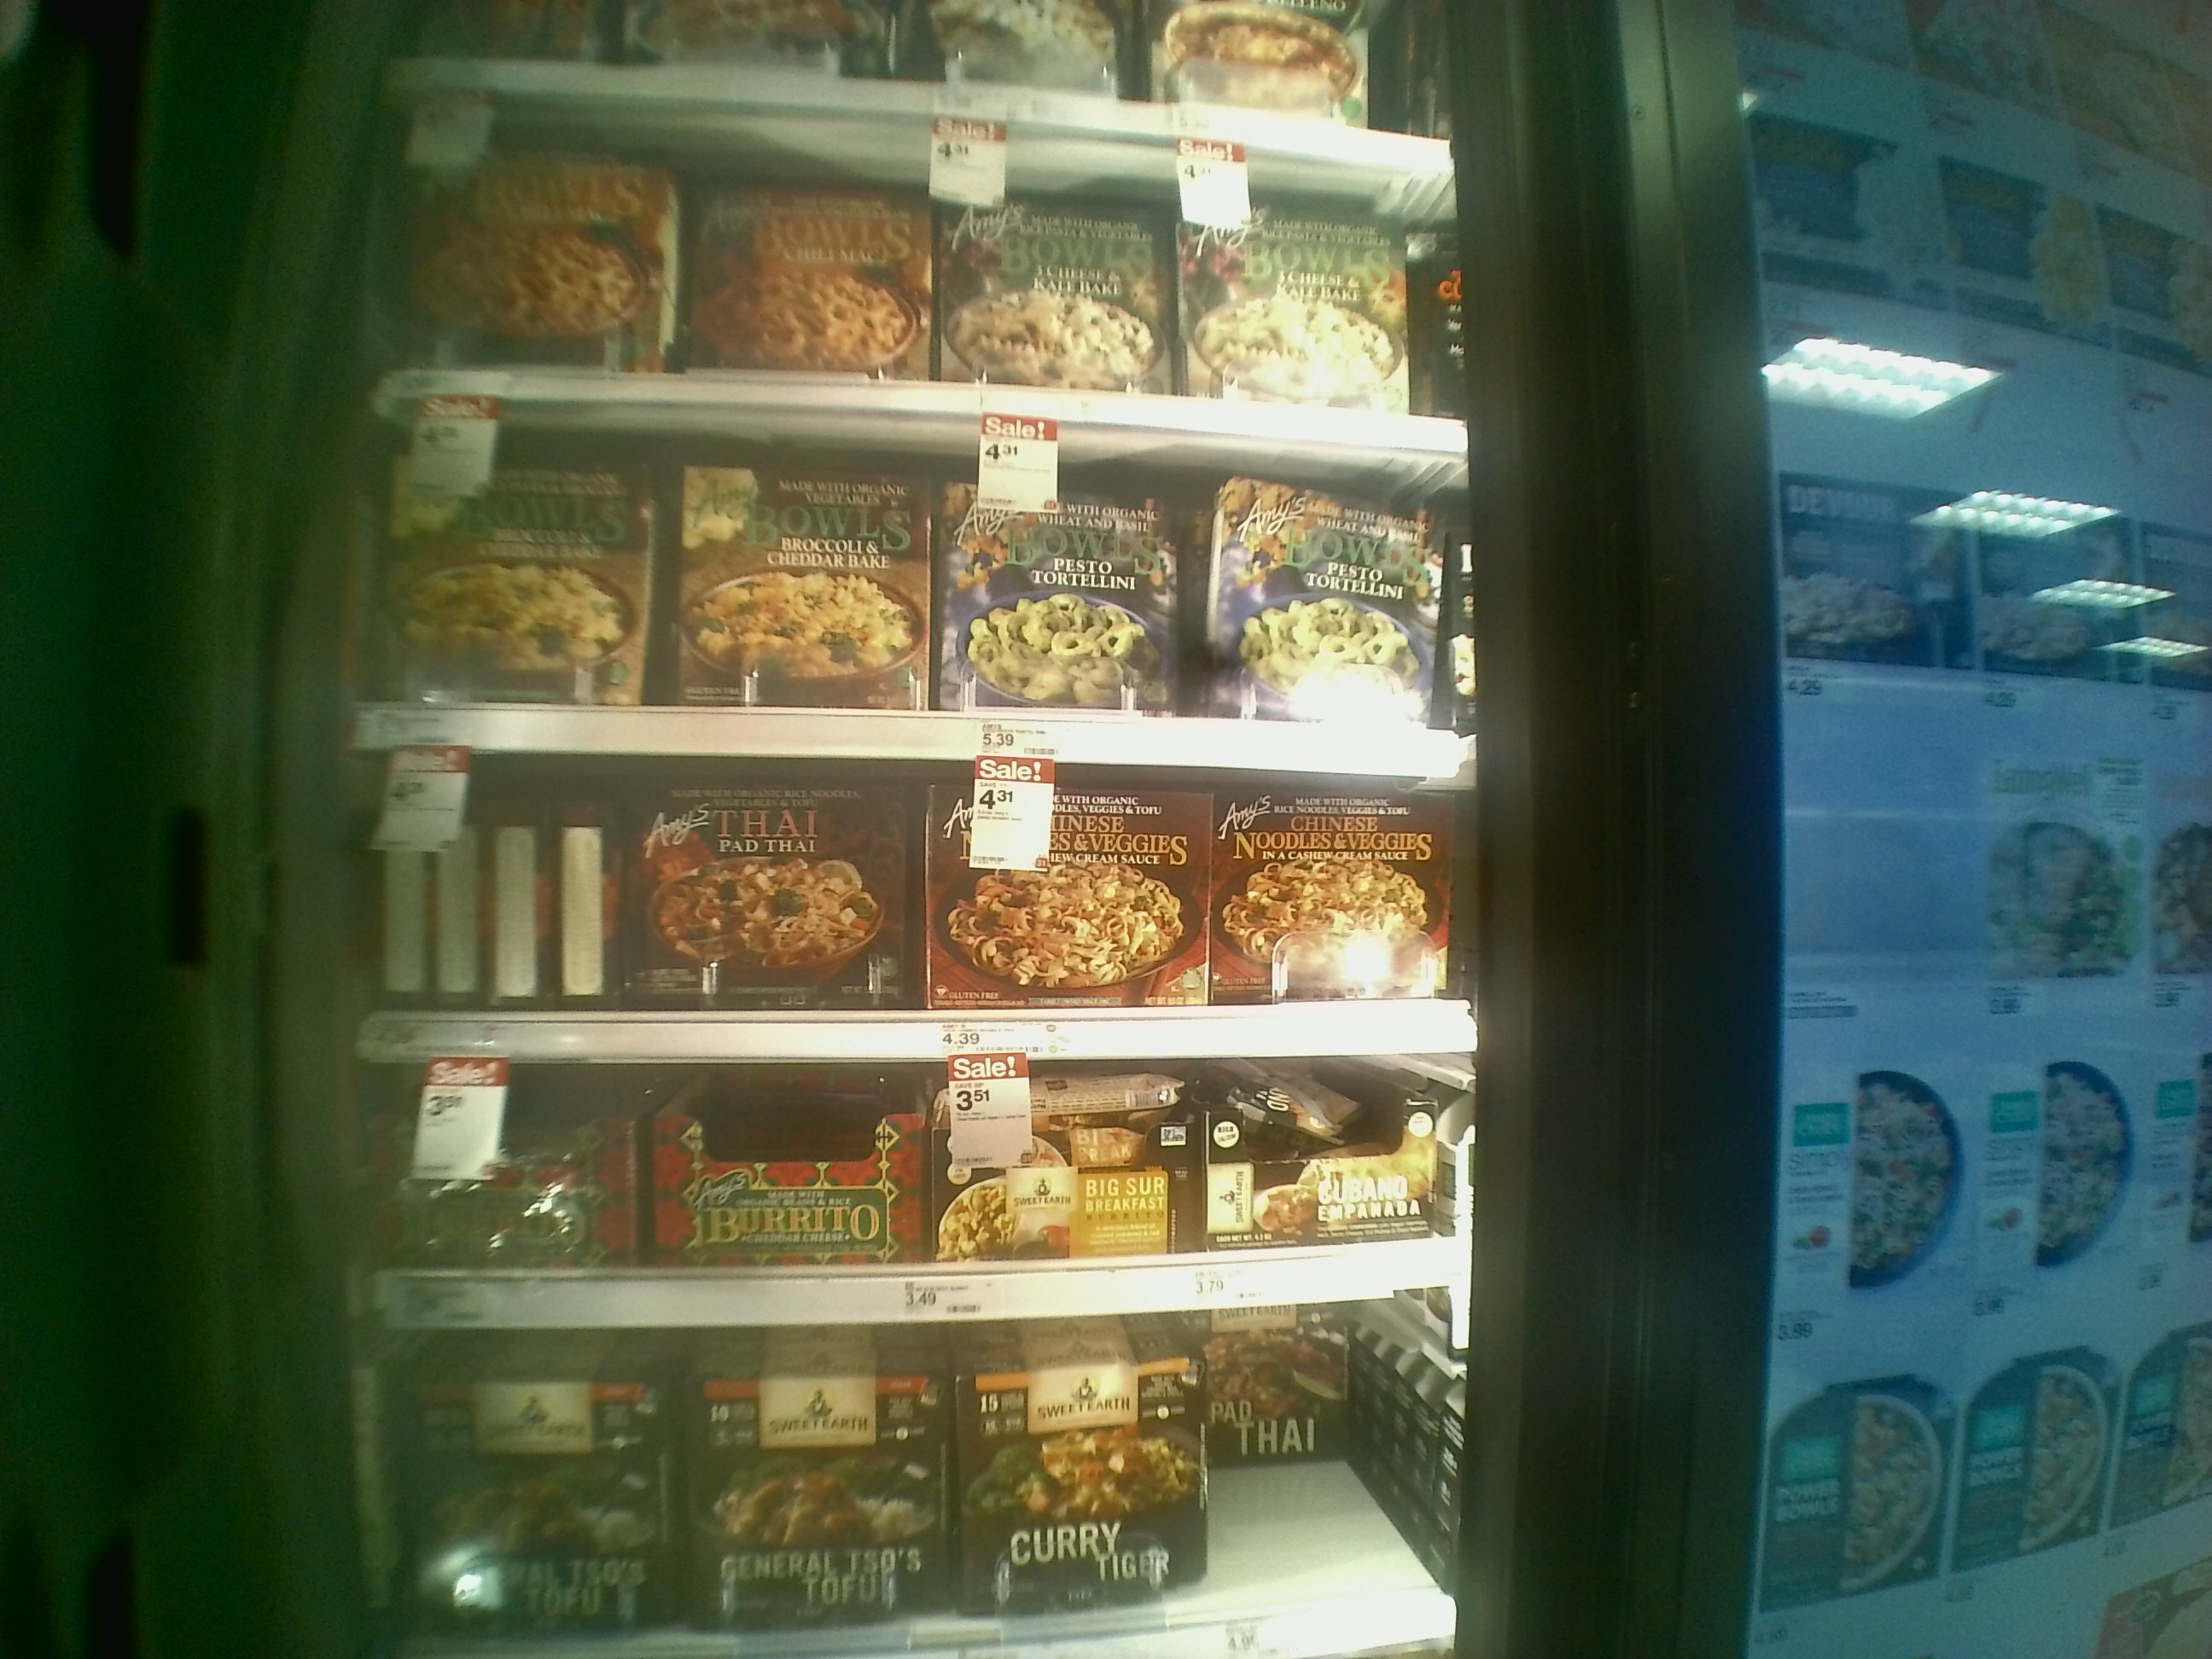frozen-food-shelf: (326, 446, 1508, 782), (326, 784, 1505, 1073), (324, 1073, 1510, 1344)
